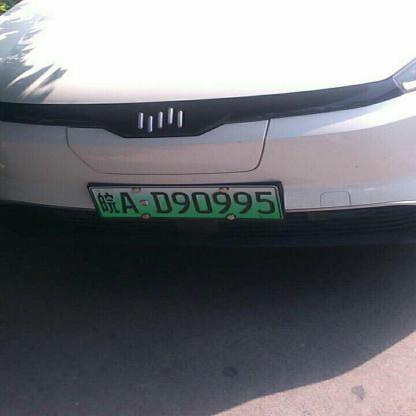lp: (90, 187, 283, 219)
